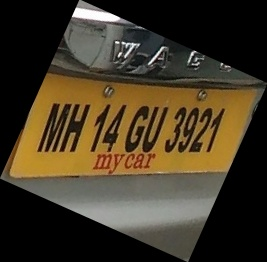character: (36, 102, 72, 153), (59, 102, 91, 152), (101, 104, 128, 152), (141, 106, 168, 154), (124, 104, 149, 153), (88, 103, 112, 154), (188, 106, 213, 154), (163, 106, 188, 153), (177, 106, 200, 155), (205, 108, 226, 152)
